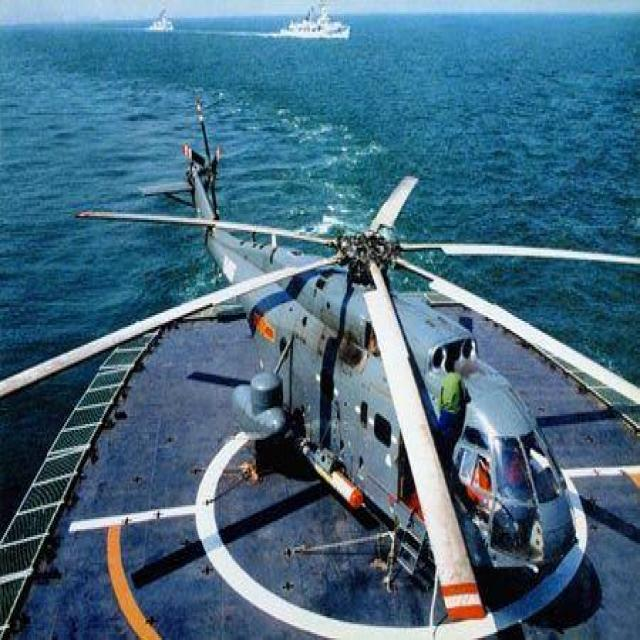MIL_HELO: (0, 129, 640, 631)
